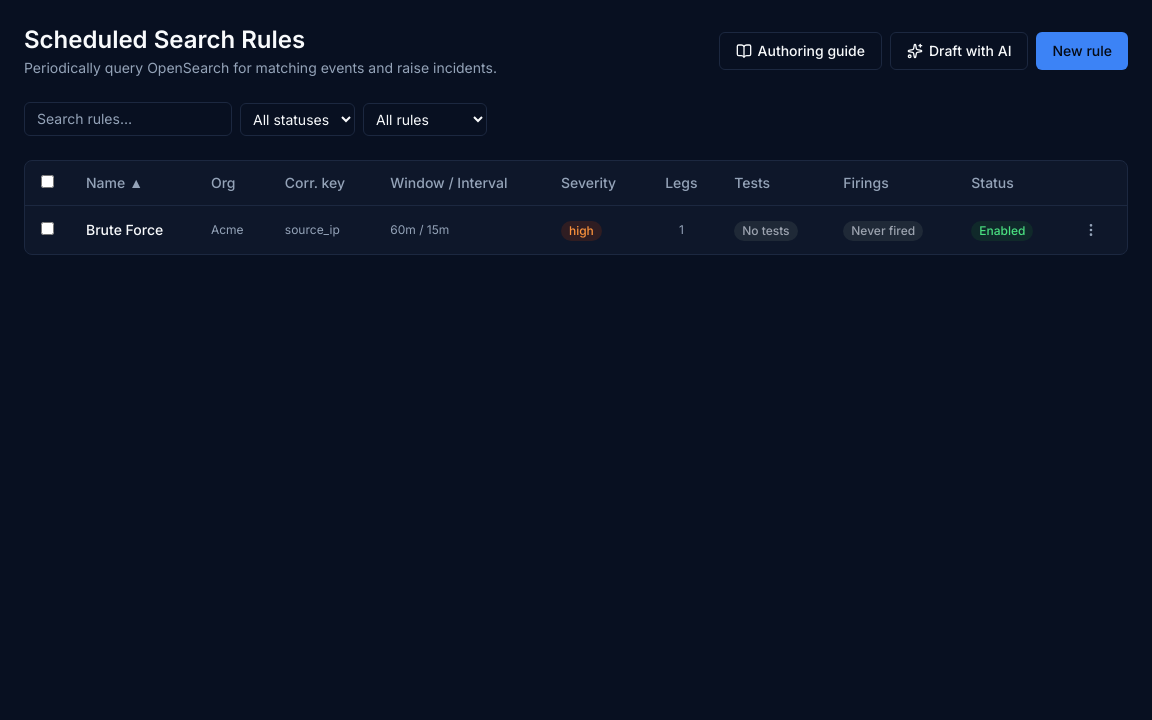
Test case: SearchRulesAdmin — clickable rule name › reaches the same edit UI as the actions menu Edit item
The image size is (1152, 720).
Expected: the button "Brute Force" is shown, [86,220,163,240]
Click the button named "Actions": [1091, 230] box [1079,218,1103,242]
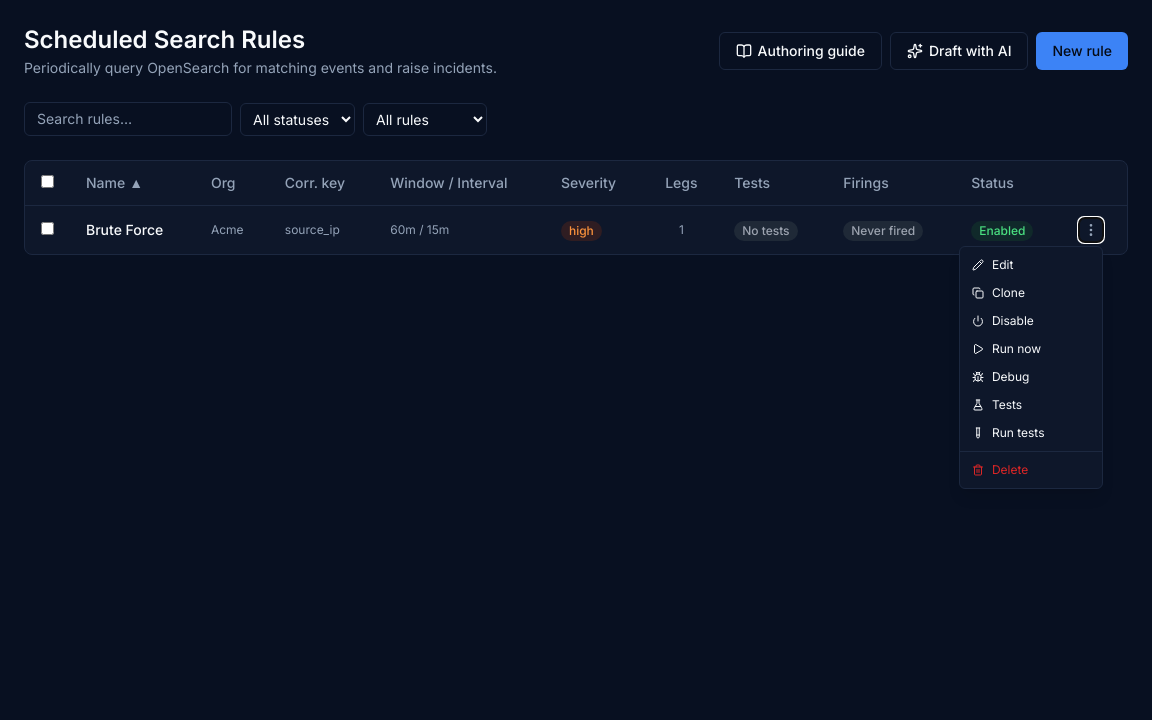
Click the button "Edit": [1031, 265] box [960,251,1102,279]
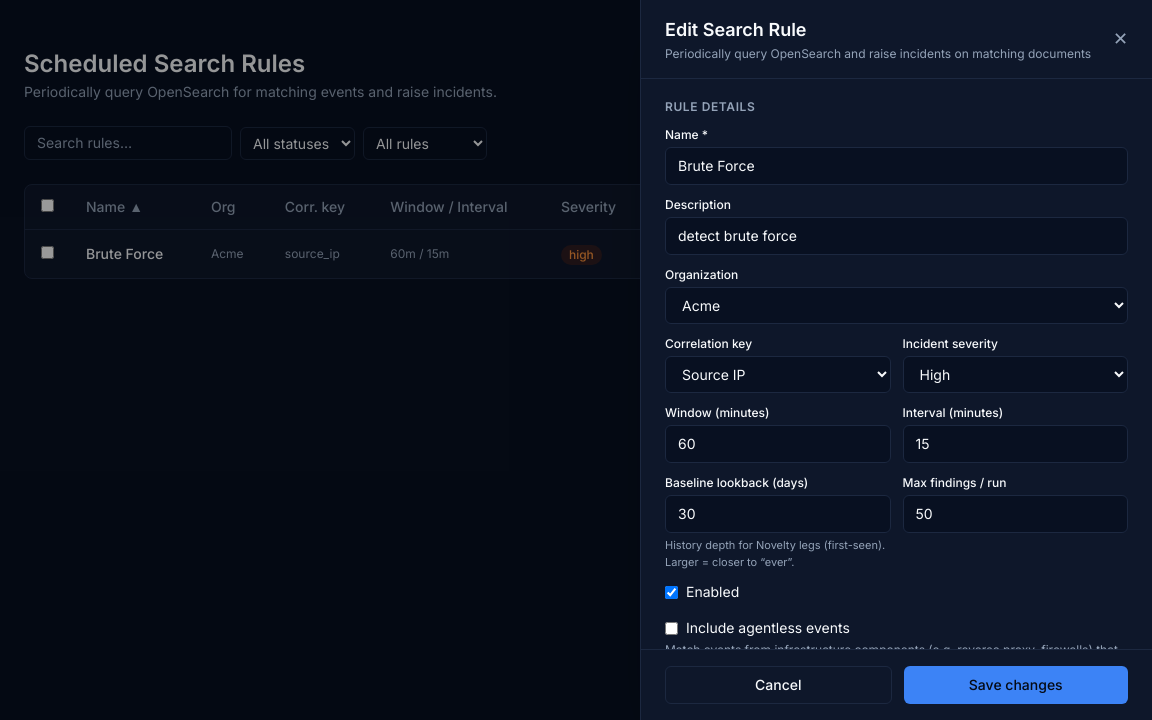
Now the heading "Edit Search Rule" is shown, box [665,19,806,40]
Now the field showing "Brute Force" below "Name *" is shown, box [665,147,1128,185]
